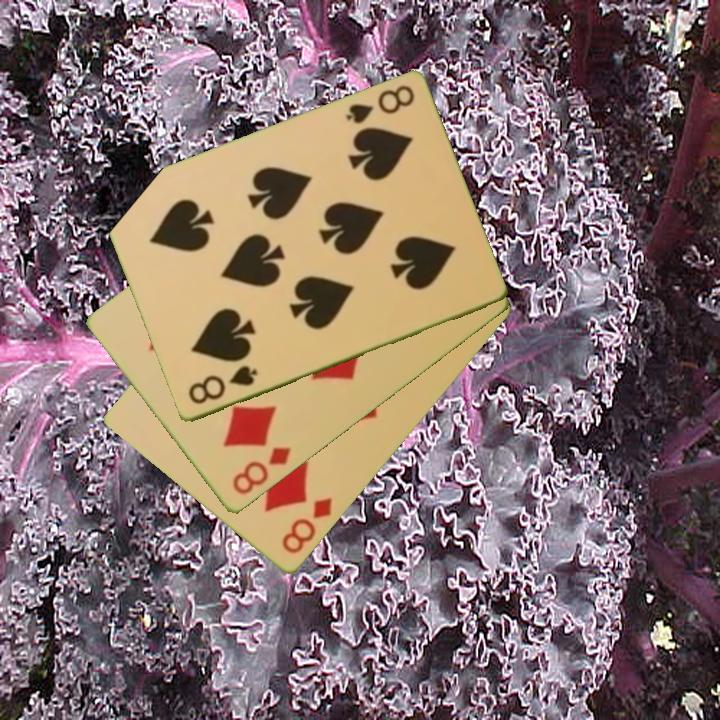8d: (278, 494, 336, 558), (228, 444, 294, 498)
8s: (342, 81, 418, 128), (184, 362, 261, 408)
